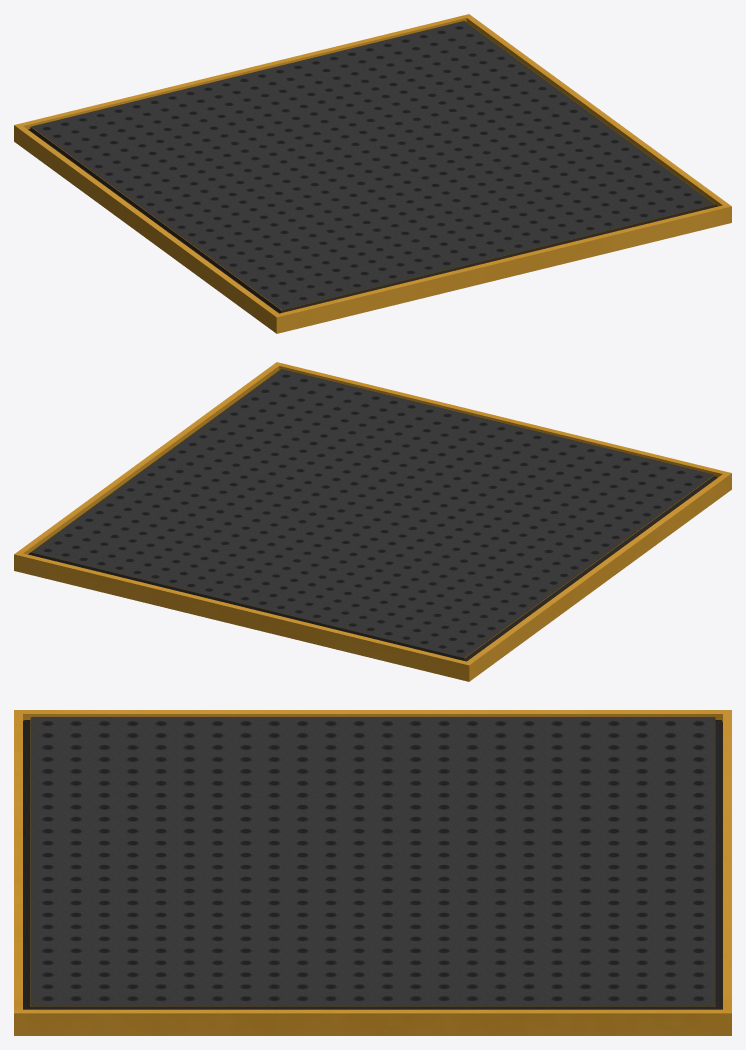
File: postSwitch 1.fbx
3 renders of one model, top to bottom at view 1: azimuth 30°, elevation 25°; view 2: azimuth 150°, elevation 25°; view 3: azimuth 270°, elevation 25°, orthographic. The views are drawn at different scales.
Parts seen in each view (by area): view 1: 立方体; view 2: 立方体; view 3: 立方体.
Boxes of the visible parts, x1,y1,x2,y2 form: 立方体: (14, 14, 731, 333); 立方体: (14, 362, 731, 681); 立方体: (14, 710, 731, 1035).
Bounding box in the file's own units: 200 × 7.02 × 200.
